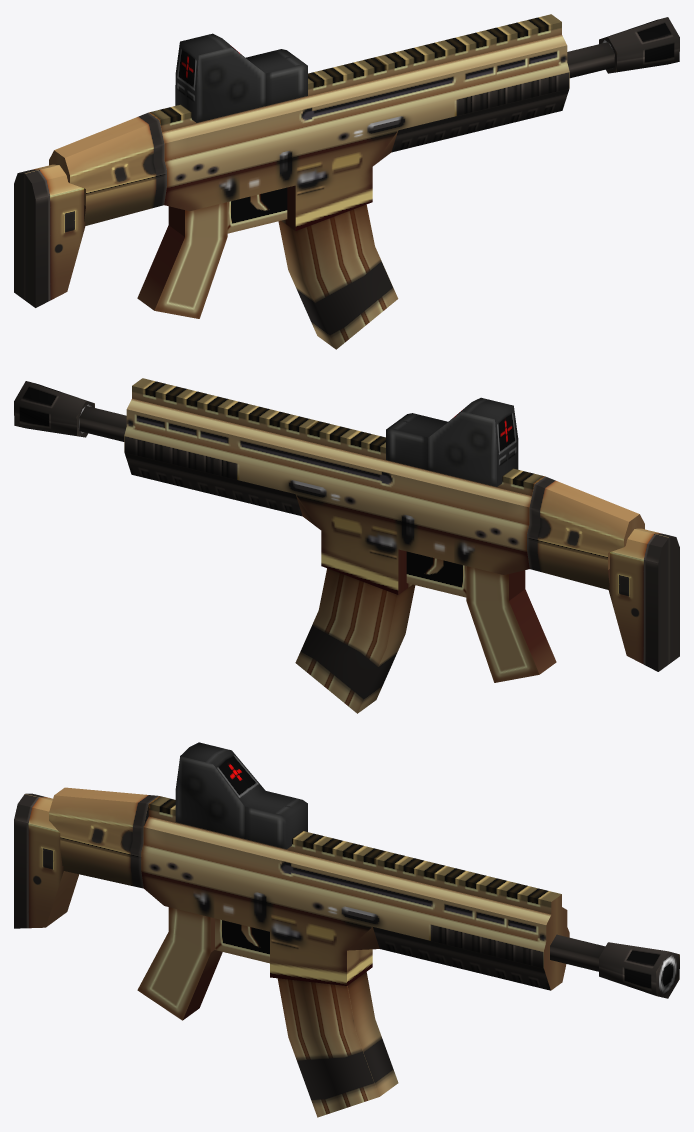
File: rifle scar lv2.FBX
3 renders of one model, top to bottom at view 1: azimuth 30°, elevation 25°; view 2: azimuth 150°, elevation 25°; view 3: azimuth 330°, elevation 25°, orthographic.
Parts seen in each view (by area): view 1: Object058; view 2: Object058; view 3: Object058.
Part boxes in pixels (x1,y1,x2,y2): Object058: (14, 14, 679, 349); Object058: (14, 378, 679, 713); Object058: (14, 742, 679, 1117).
Size of the model in its own units: 81.87 by 40.15 by 5.66.
